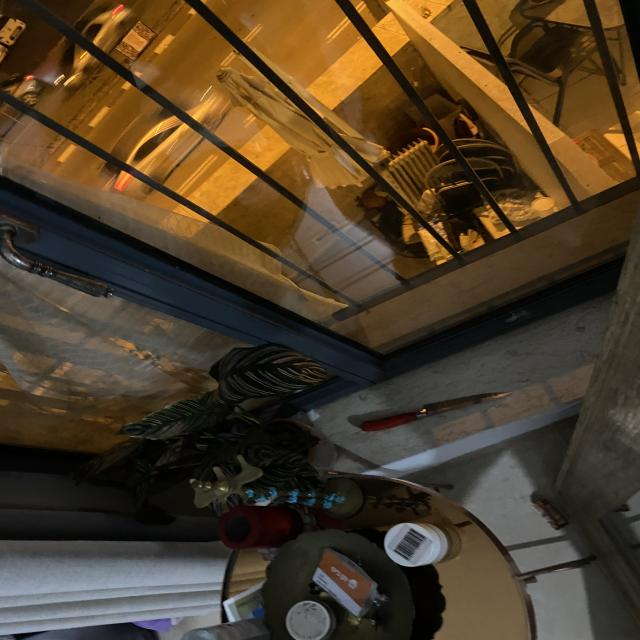Hammer: (322, 351, 522, 443)
